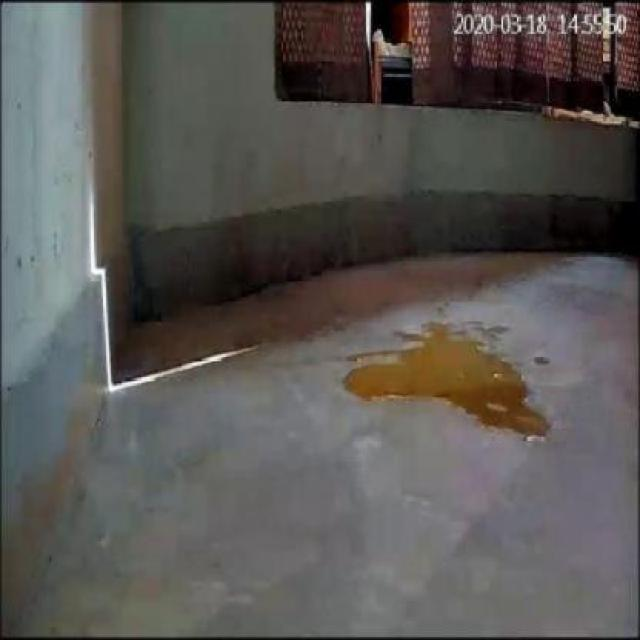spillage: (342, 325, 548, 439)
